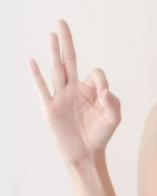left: (26, 18, 124, 160)
